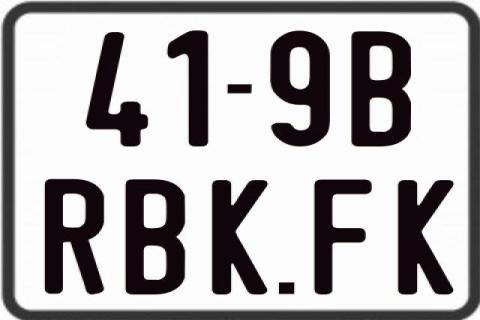0: (85, 31, 152, 149), (269, 29, 331, 145), (167, 29, 211, 149)
B: (350, 29, 414, 144), (123, 177, 182, 295)
F: (312, 178, 372, 298)
K: (212, 180, 270, 298), (396, 178, 453, 294)
R: (45, 179, 106, 297)
